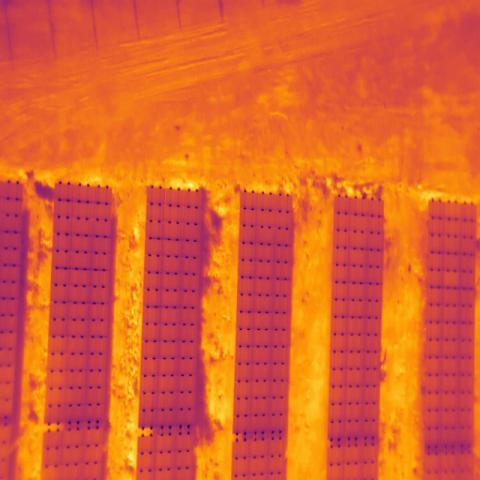fault: (442, 270, 461, 290)
